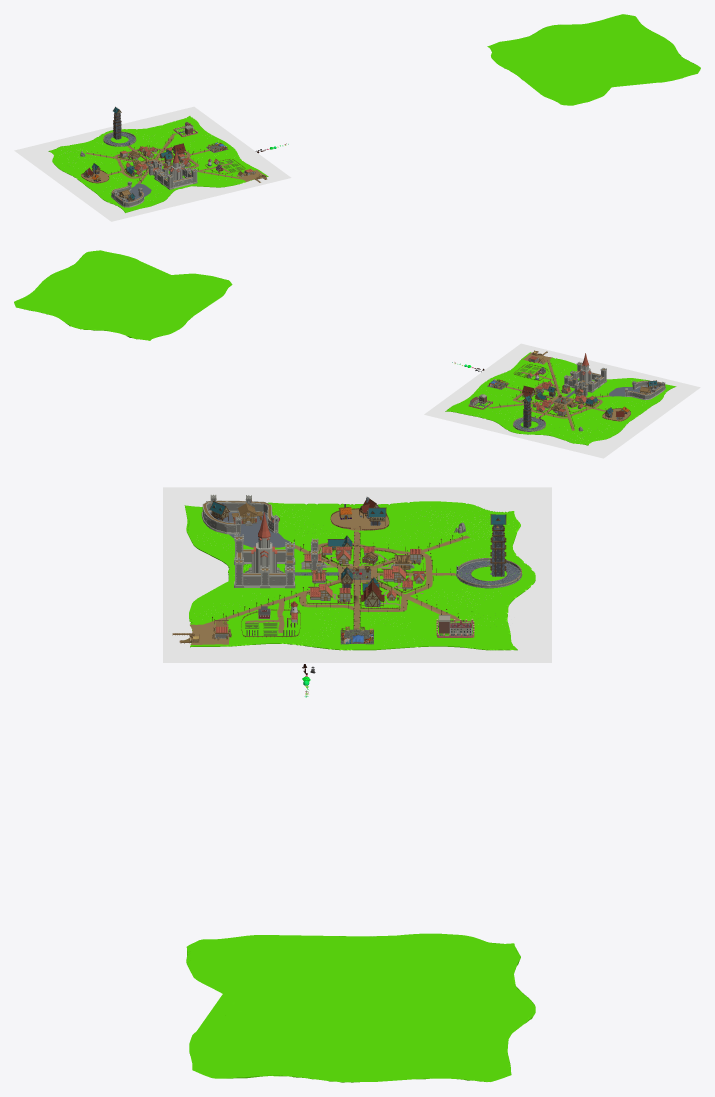
The model's file is island6_model.glb.
3 renders of one model, top to bottom at view 1: azimuth 30°, elevation 25°; view 2: azimuth 150°, elevation 25°; view 3: azimuth 270°, elevation 25°, orthographic. The views are drawn at different scales.
Parts seen in each view (by area): view 1: Cube.001, Cube.003, sea, path, WonderWalls_SecondAge; view 2: Cube.001, Cube.003, sea, path, WonderWalls_SecondAge, Wall_SecondAge.002; view 3: Cube.001, Cube.003, sea, path, WonderWalls_SecondAge, Wall_SecondAge.002, Temple_SecondAge_Level2, House_3.001.
Part boxes in pixels (<box>): Cube.001: <box>487,14,700,105</box>; Cube.003: <box>48,116,268,212</box>; sea: <box>14,106,291,221</box>; path: <box>86,133,242,183</box>; WonderWalls_SecondAge: <box>154,163,197,189</box>; Cube.001: <box>14,250,232,340</box>; Cube.003: <box>445,352,676,445</box>; sea: <box>424,343,700,458</box>; path: <box>489,360,609,430</box>; WonderWalls_SecondAge: <box>564,361,606,392</box>; Wall_SecondAge.002: <box>626,380,665,399</box>; Cube.001: <box>186,933,535,1082</box>; Cube.003: <box>184,501,535,650</box>; sea: <box>163,487,551,662</box>; path: <box>203,531,469,633</box>; WonderWalls_SecondAge: <box>234,534,295,588</box>; Wall_SecondAge.002: <box>201,500,276,534</box>; Temple_SecondAge_Level2: <box>245,512,283,572</box>; House_3.001: <box>490,514,506,576</box>.
Size of the model in its own units: 1078 by 59.35 by 300.
Materials: 1549 (7 with a texture image).
